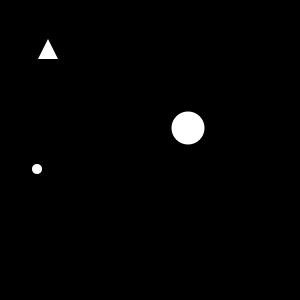rectangle: (172, 112, 205, 144), (32, 164, 42, 174)
triangle: (38, 39, 58, 59)
